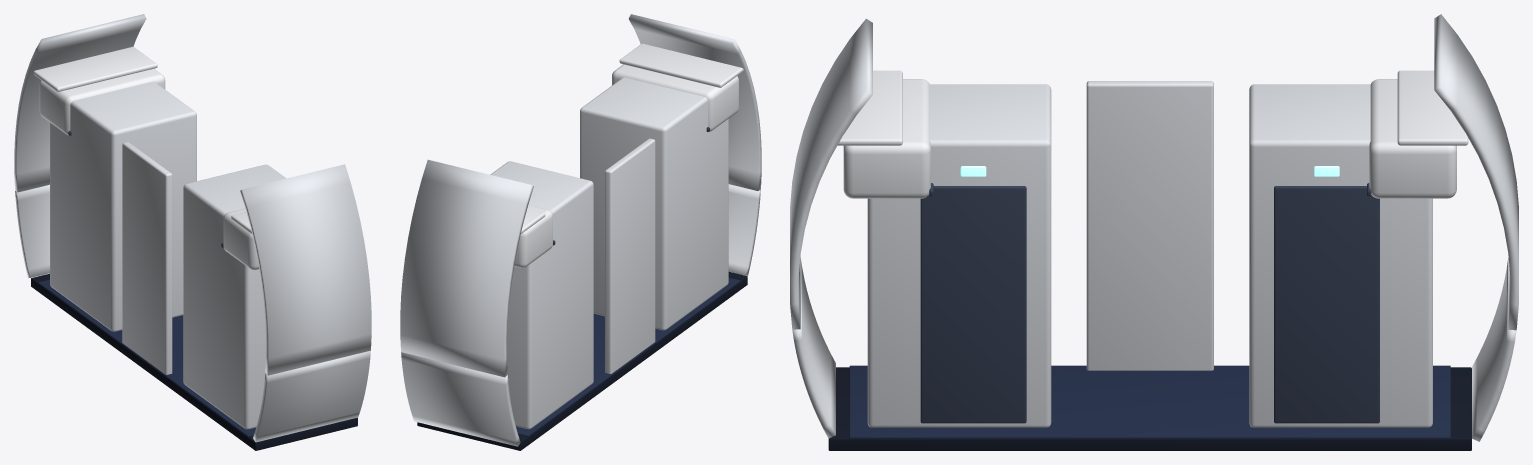
File: cabin_rear.glb
3 views of the same model, side by side, from view 1: azimuth 30°, elevation 25°; view 2: azimuth 150°, elevation 25°; view 3: azimuth 270°, elevation 25° (orthographic). The views are drawn at different scales.
Visible parts, largest first — view 1: core, R_upper, L_upper, R_lower, L_lower; view 2: core, L_upper, R_upper, L_lower, R_lower; view 3: core, L_upper, R_upper, L_lower, R_lower.
Part boxes in pixels (x1,y1,x2,y2): core: (31,81,357,450); R_upper: (221,164,371,375); L_upper: (14,14,165,192); R_lower: (253,350,370,442); L_lower: (15,184,49,278); core: (417,77,747,450); L_upper: (400,159,555,377); R_upper: (612,14,761,190); L_lower: (401,352,520,446); R_lower: (728,184,760,275); core: (828,81,1471,450); L_upper: (1367,14,1518,330); R_upper: (790,18,933,329); L_lower: (1472,258,1516,441); R_lower: (792,258,835,438).
Bounding box in the file's own units: 1.2 × 2.86 × 5.16.
